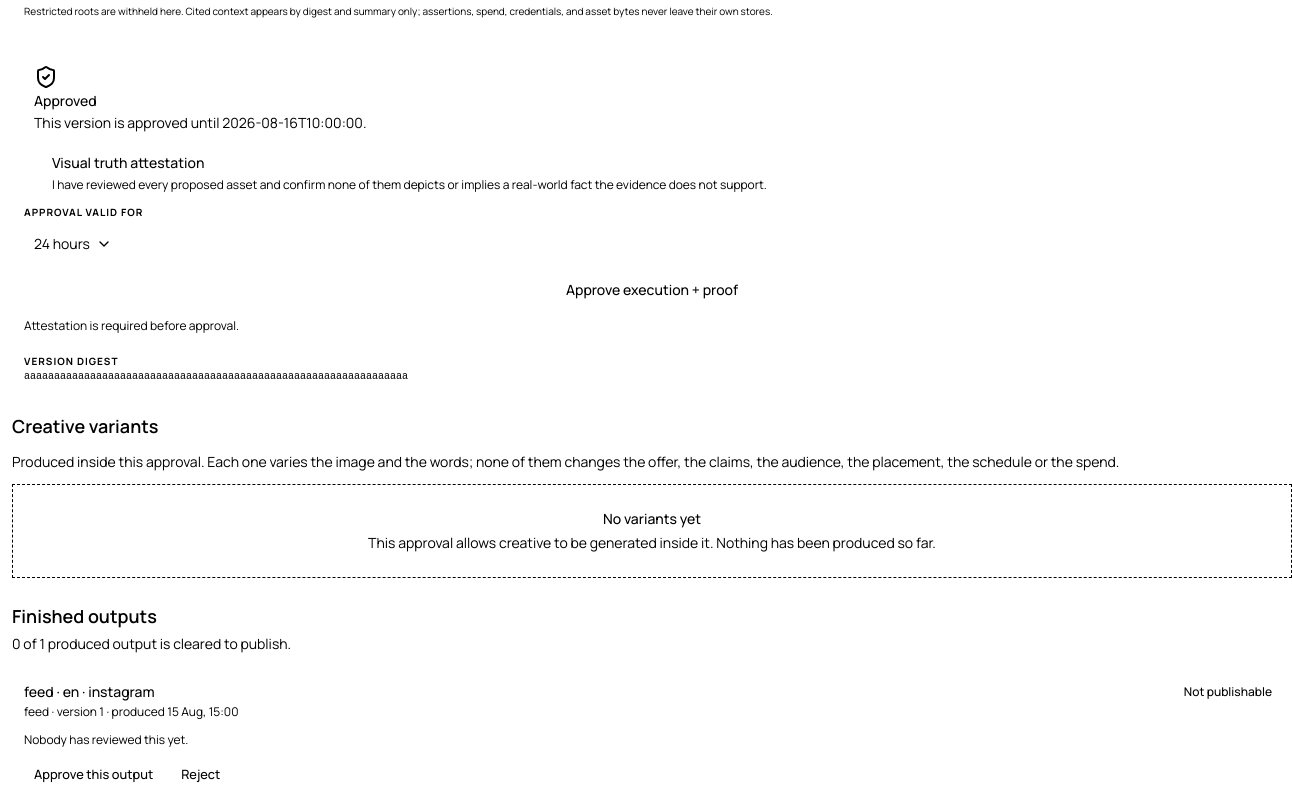
Test: reviewing finished outputs lives on Creative, not Publishing › refuses to record a rejection until it says why
(page scrolled)
Click the button "Reject" at coordinates (201, 774), box [171,760,230,788]
(page scrolled)
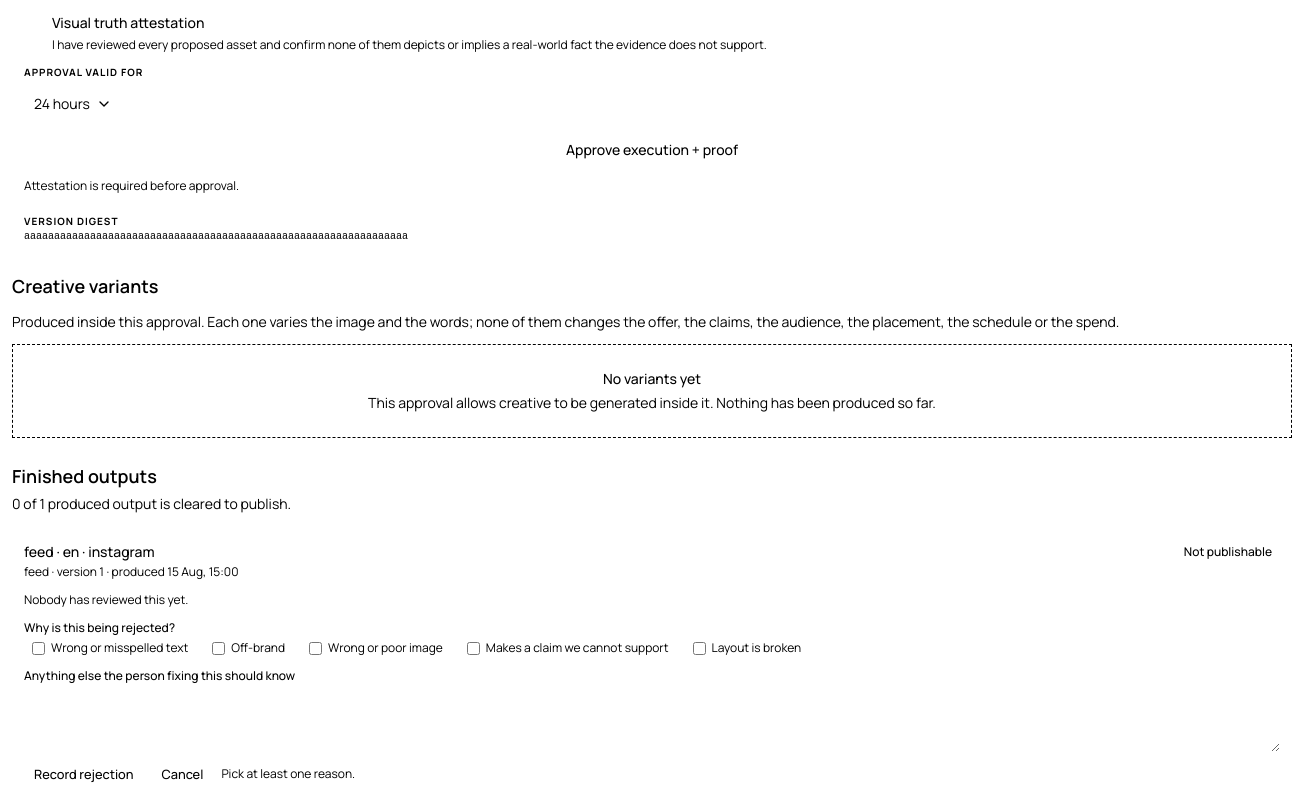
Expected: the button "Record rejection" is disabled, [24,760,144,788]
Expected: the text "Pick at least one reason." is shown, [221,766,355,782]
